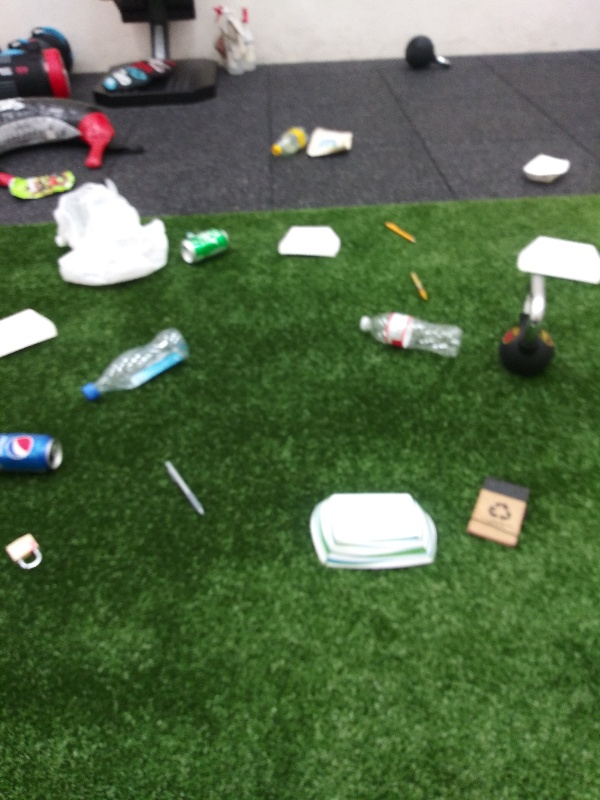bag: (8, 166, 80, 204), (300, 122, 354, 160)
bottle: (76, 324, 193, 404), (352, 306, 466, 363), (265, 120, 314, 161)
can: (5, 423, 67, 476), (178, 222, 233, 269)
plate: (303, 488, 442, 573), (510, 233, 600, 290), (1, 306, 62, 366), (272, 221, 346, 262), (519, 149, 576, 189)
